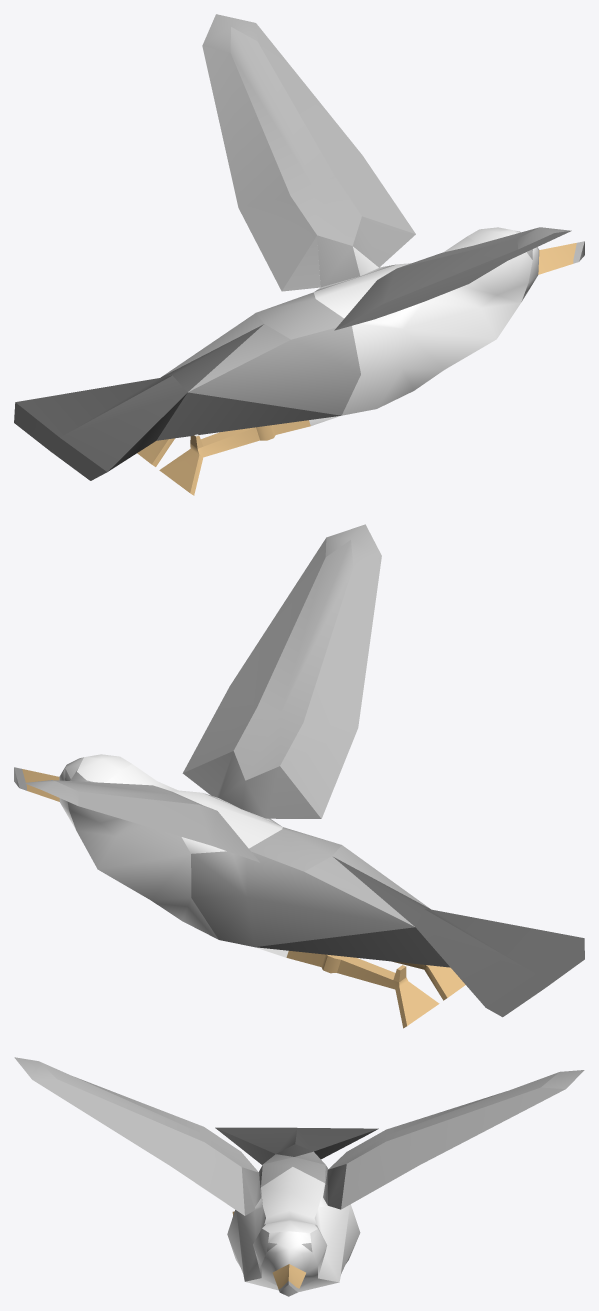
File: mouette.gltf
The picture shows the model from 3 angles, top to bottom: view 1: azimuth 30°, elevation 25°; view 2: azimuth 150°, elevation 25°; view 3: azimuth 270°, elevation 25°; orthographic projection. The views are drawn at different scales.
Visible parts, largest first — view 1: Default-Mat.1 (×2), Default-Mat, Default-Mat.3, Default-Mat.2 (×2); view 2: Default-Mat.1 (×2), Default-Mat.3, Default-Mat, Default-Mat.2; view 3: Default-Mat.1 (×2), Default-Mat, Default-Mat.3, Default-Mat.2.
Boxes of the visible parts, left/top/right/bottom form: Default-Mat.1 (×2): left=162, top=14, right=571, bottom=415; Default-Mat: left=194, top=227, right=539, bottom=436; Default-Mat.3: left=14, top=324, right=340, bottom=480; Default-Mat.2 (×2): left=137, top=243, right=576, bottom=495; Default-Mat.1 (×2): left=24, top=524, right=430, bottom=947; Default-Mat.3: left=255, top=857, right=584, bottom=1017; Default-Mat: left=59, top=754, right=288, bottom=957; Default-Mat.2: left=286, top=951, right=465, bottom=1028; Default-Mat.1 (×2): left=14, top=1057, right=584, bottom=1251; Default-Mat: left=227, top=1167, right=360, bottom=1292; Default-Mat.3: left=215, top=1127, right=378, bottom=1164; Default-Mat.2: left=272, top=1264, right=305, bottom=1289.
Size of the model in its own units: 82.16 by 44.24 by 88.47.
